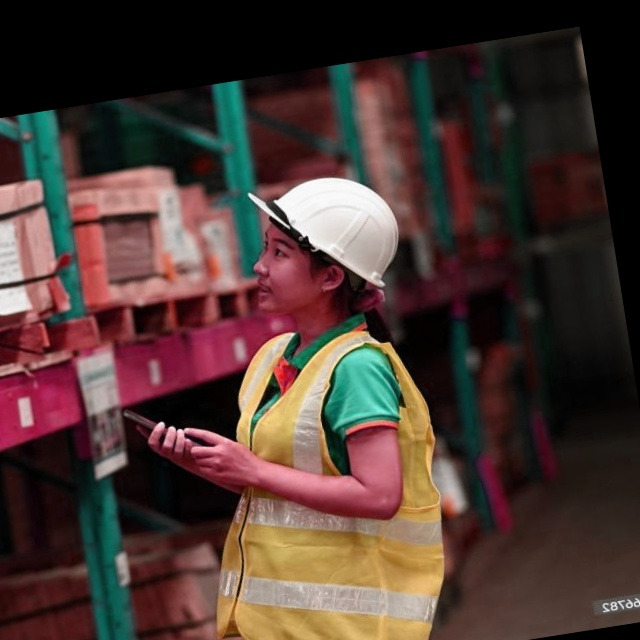Con_Casco: (236, 166, 414, 325)
Con_Chaleco: (177, 312, 469, 640)
